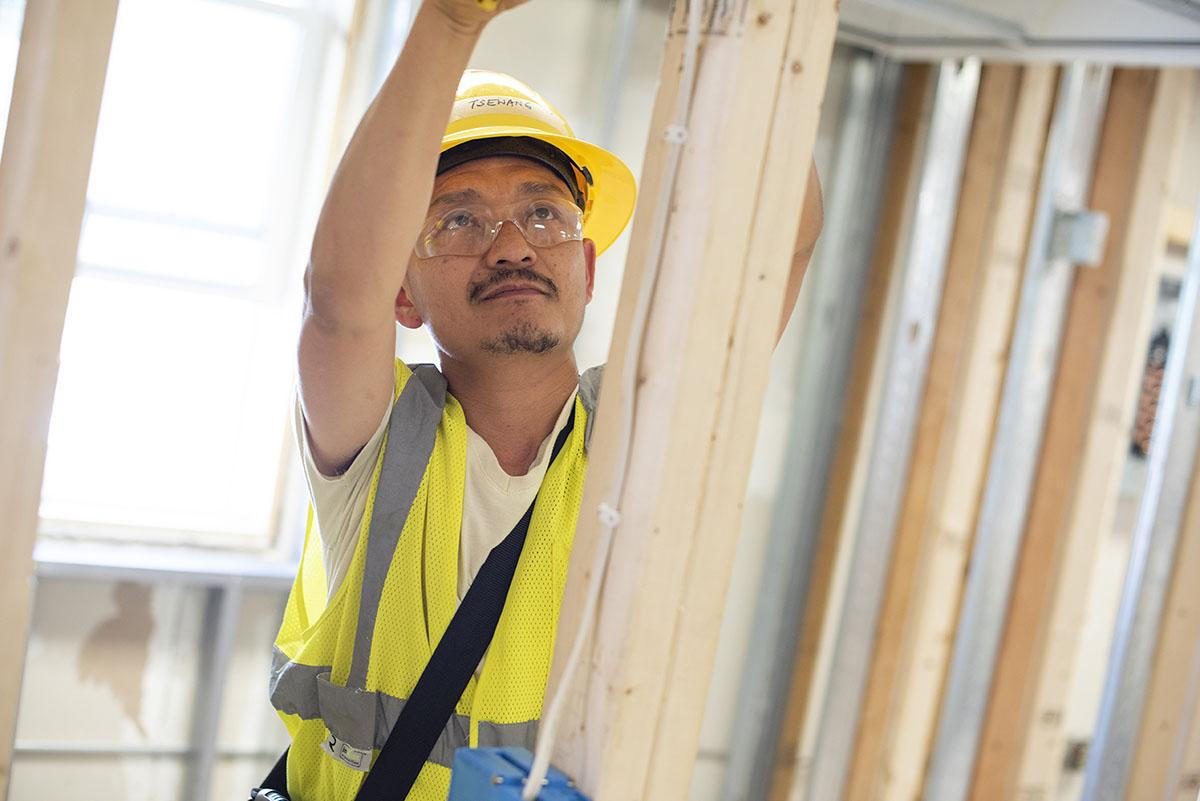helmet: (445, 66, 636, 250)
